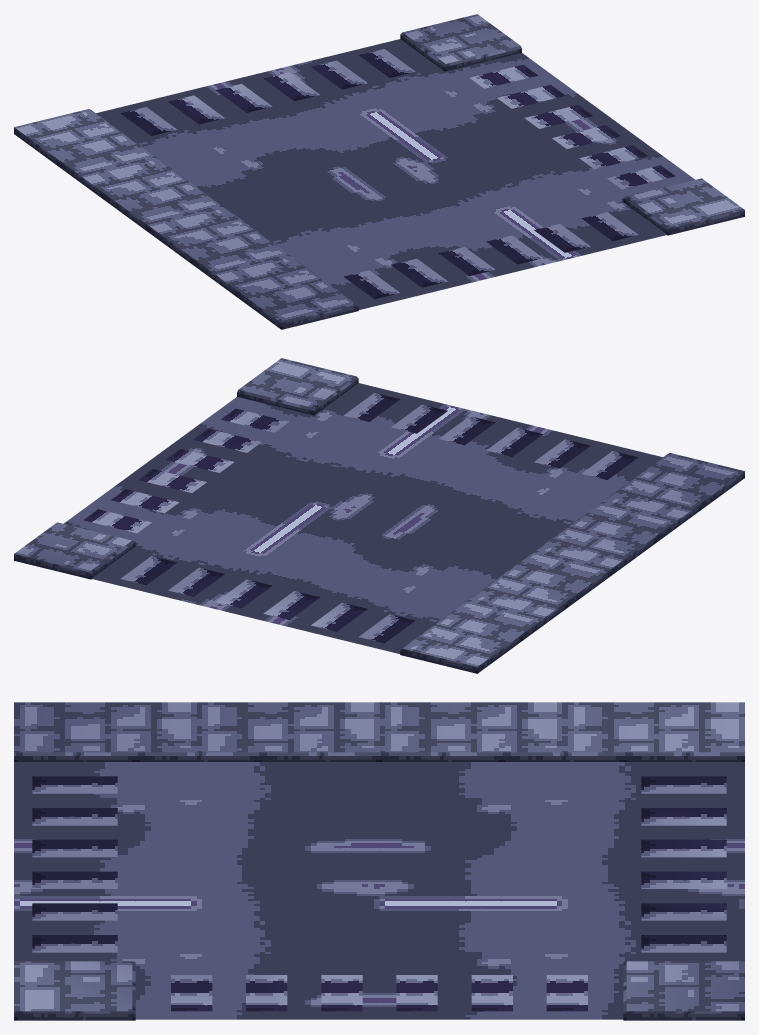
The model's file is cystreet.tee.glb.
The picture shows the model from 3 angles, top to bottom: view 1: azimuth 30°, elevation 25°; view 2: azimuth 150°, elevation 25°; view 3: azimuth 270°, elevation 25°; orthographic projection. The views are drawn at different scales.
Visible parts, largest first — view 1: kit_shell_road, kit_walks, kit_card_paint; view 2: kit_shell_road, kit_walks, kit_card_paint; view 3: kit_shell_road, kit_walks, kit_card_paint.
Boxes of the visible parts, x1,y1,x2,y2 form: kit_shell_road: (96, 39, 694, 309); kit_walks: (14, 14, 744, 329); kit_card_paint: (120, 49, 675, 299); kit_shell_road: (64, 383, 662, 653); kit_walks: (14, 358, 744, 673); kit_card_paint: (83, 393, 638, 643); kit_shell_road: (14, 762, 744, 1019); kit_walks: (14, 702, 744, 1020); kit_card_paint: (32, 776, 726, 1011).
Bounding box in the file's own units: 12 × 0.17 × 12.
4 materials, 4 textured.
